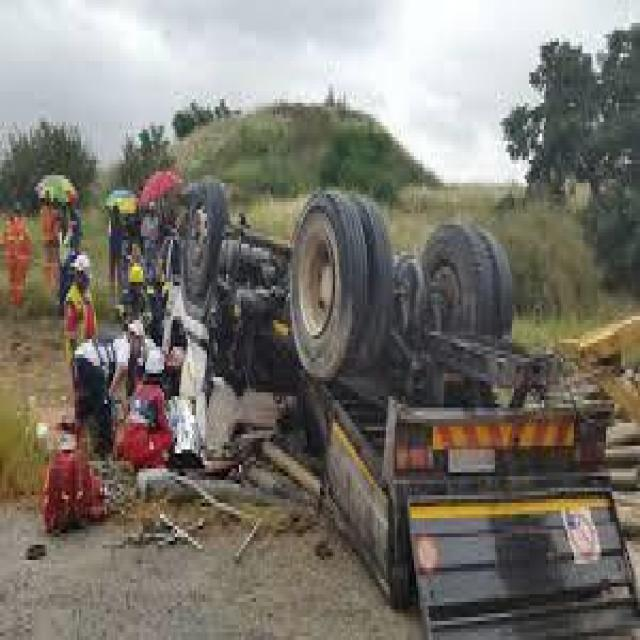single accident: (109, 142, 614, 640)
